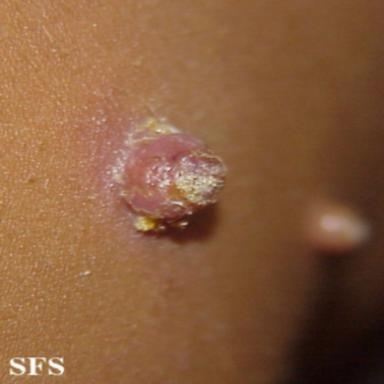Molluscum-Contagiosum: (106, 112, 228, 239), (305, 201, 369, 252)
